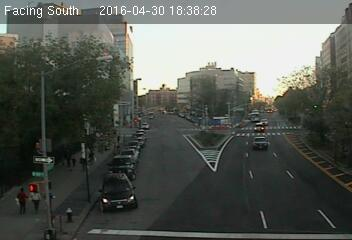neg: (140, 184, 154, 203), (98, 176, 111, 194), (61, 24, 74, 41), (271, 170, 283, 185), (313, 92, 324, 107), (121, 59, 132, 73), (252, 121, 262, 135), (202, 138, 212, 151), (141, 134, 147, 142), (179, 56, 184, 63), (149, 115, 153, 121)
pos: (10, 184, 32, 214), (27, 186, 45, 210), (60, 149, 77, 171), (68, 155, 79, 170), (115, 134, 122, 143)
